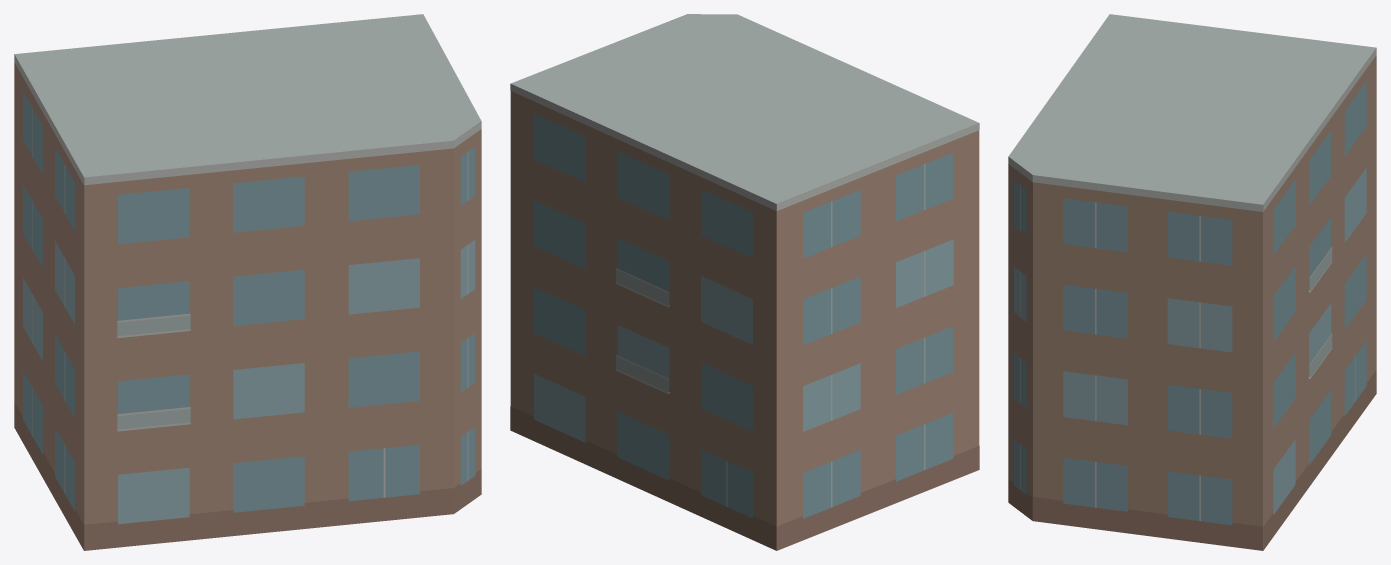
Rendered from survey-upis-32880931.glb.
3 views of the same model, side by side, from view 1: azimuth 30°, elevation 25°; view 2: azimuth 150°, elevation 25°; view 3: azimuth 270°, elevation 25° (orthographic). The views are drawn at different scales.
Visible parts, largest first — view 1: survey-upis-32880931.tmp; view 2: survey-upis-32880931.tmp; view 3: survey-upis-32880931.tmp.
Part boxes in pixels (x1,y1,x2,y2): survey-upis-32880931.tmp: [14, 14, 481, 550]; survey-upis-32880931.tmp: [510, 14, 979, 550]; survey-upis-32880931.tmp: [1008, 14, 1376, 550].
Bounding box in the file's own units: 13.97 × 11.8 × 11.39.
